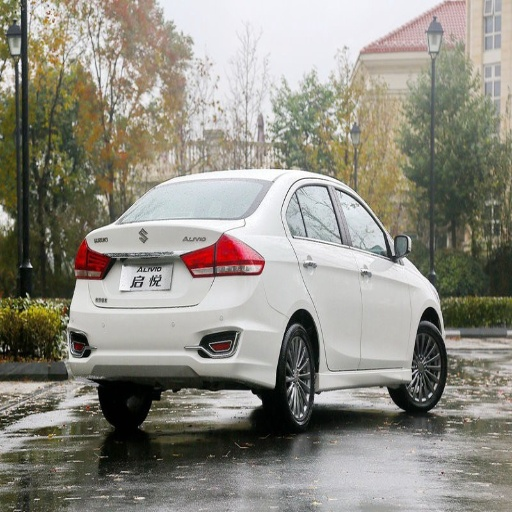back_bumper: (64, 275, 287, 386)
back_right_door: (285, 179, 362, 369)
tailgate: (89, 220, 221, 307)
